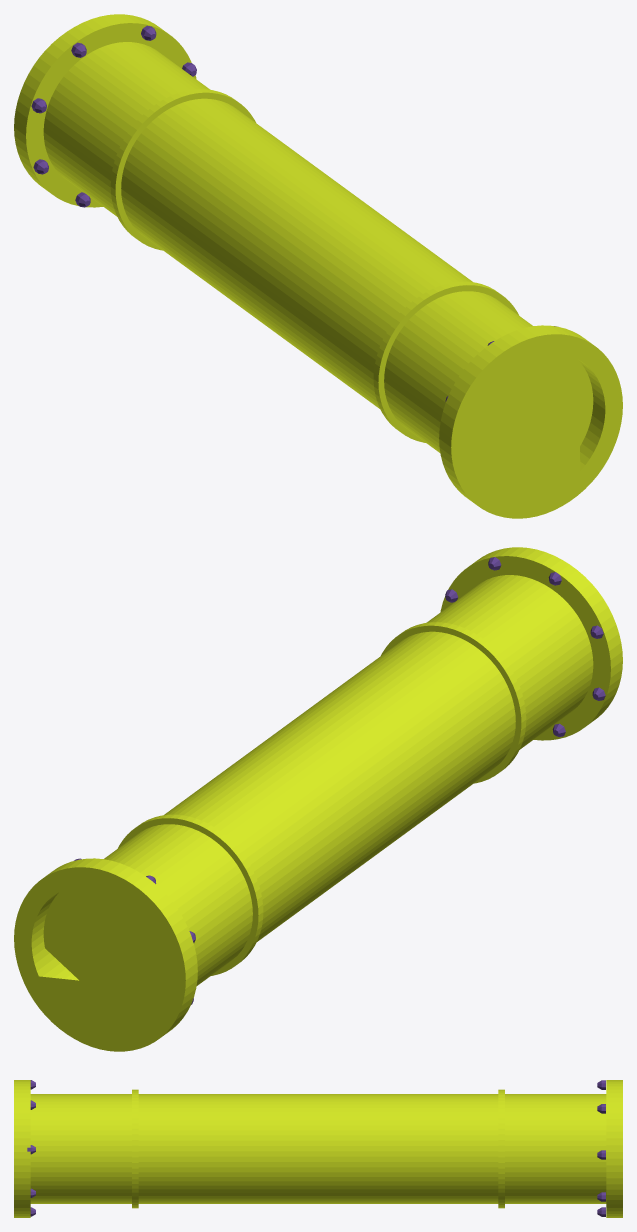
The model's file is O_canoLongo_Nerfado.fbx.
3 renders of one model, top to bottom at view 1: azimuth 30°, elevation 25°; view 2: azimuth 150°, elevation 25°; view 3: azimuth 270°, elevation 25°, orthographic. The views are drawn at different scales.
Visible parts, largest first — view 1: Cano; view 2: Cano; view 3: Cano.
Boxes of the visible parts, x1,y1,x2,y2 form: Cano: (14,14,622,518); Cano: (14,547,622,1051); Cano: (14,1080,622,1217).
Size of the model in its own units: 227 by 227 by 1000.
